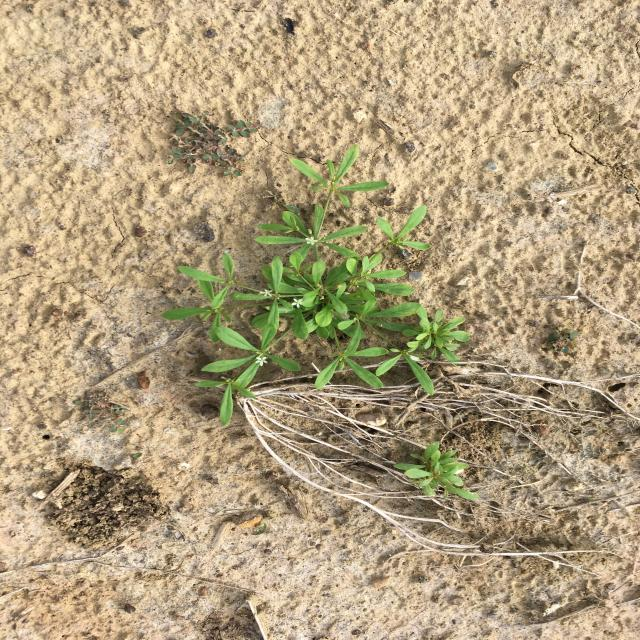Carpetweed: (161, 144, 434, 426), (392, 441, 480, 500), (402, 304, 469, 365)
SpottedSpurge: (167, 107, 258, 180), (73, 391, 130, 434), (545, 323, 581, 354)
